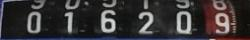digits: (0, 0, 249, 36), (202, 0, 236, 35), (175, 11, 192, 33), (100, 9, 116, 32), (137, 11, 153, 33), (214, 12, 229, 34), (27, 11, 42, 33), (63, 11, 73, 33), (64, 0, 80, 9), (212, 0, 226, 10), (31, 0, 46, 9), (174, 0, 190, 8), (102, 0, 116, 7), (142, 0, 148, 9)
